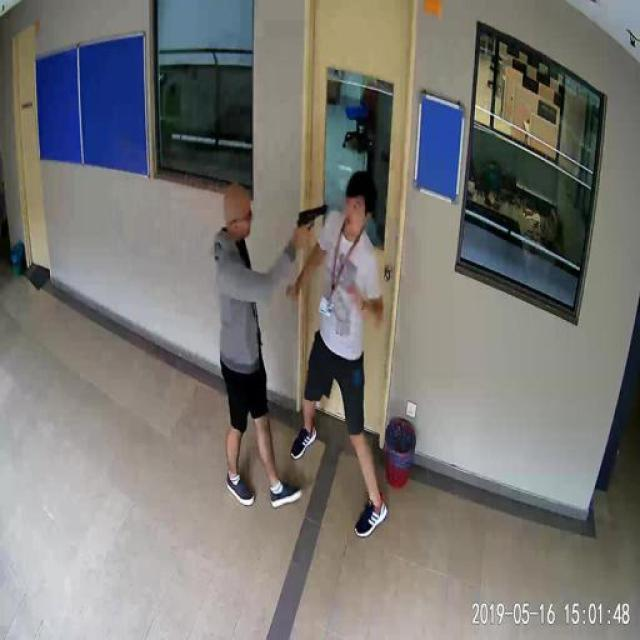weapon: (294, 204, 332, 245)
